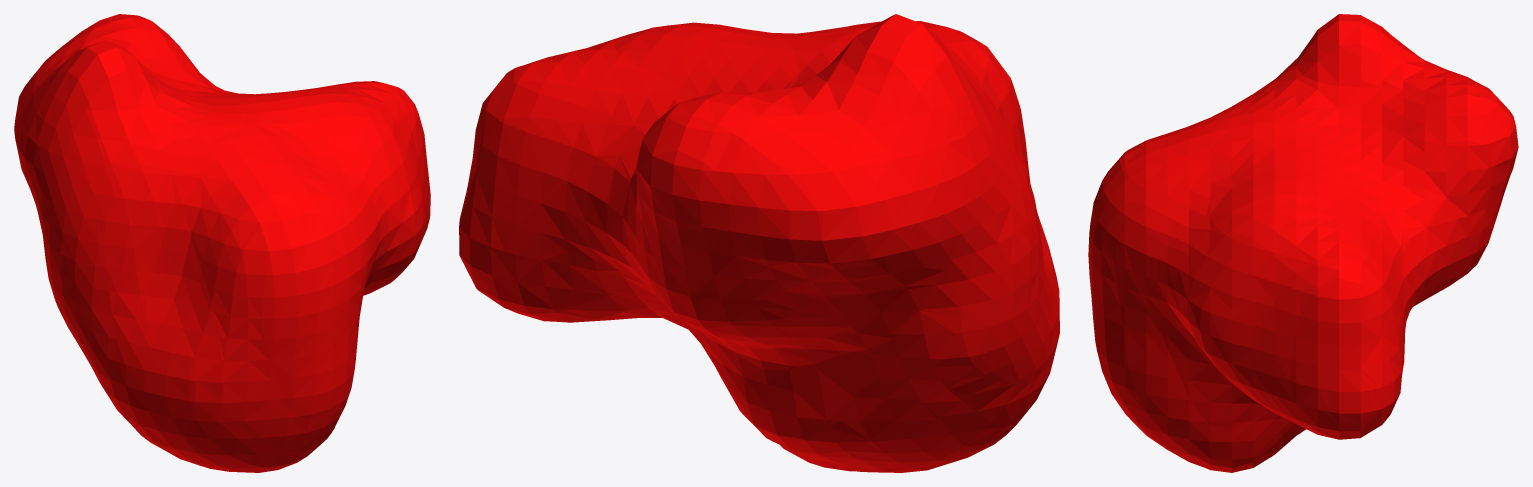
Rendered from sra_coarse.dae.
3 renders of one model, left to right at view 1: azimuth 30°, elevation 25°; view 2: azimuth 150°, elevation 25°; view 3: azimuth 270°, elevation 25°, orthographic. The views are drawn at different scales.
Visible parts, largest first — view 1: sra; view 2: sra; view 3: sra.
Boxes of the visible parts, x1=… form: sra: x1=14, y1=14, x2=430, y2=472; sra: x1=459, y1=14, x2=1059, y2=472; sra: x1=1088, y1=14, x2=1518, y2=472.
Bounding box in the file's own units: 30.82 × 29.84 × 29.16.
